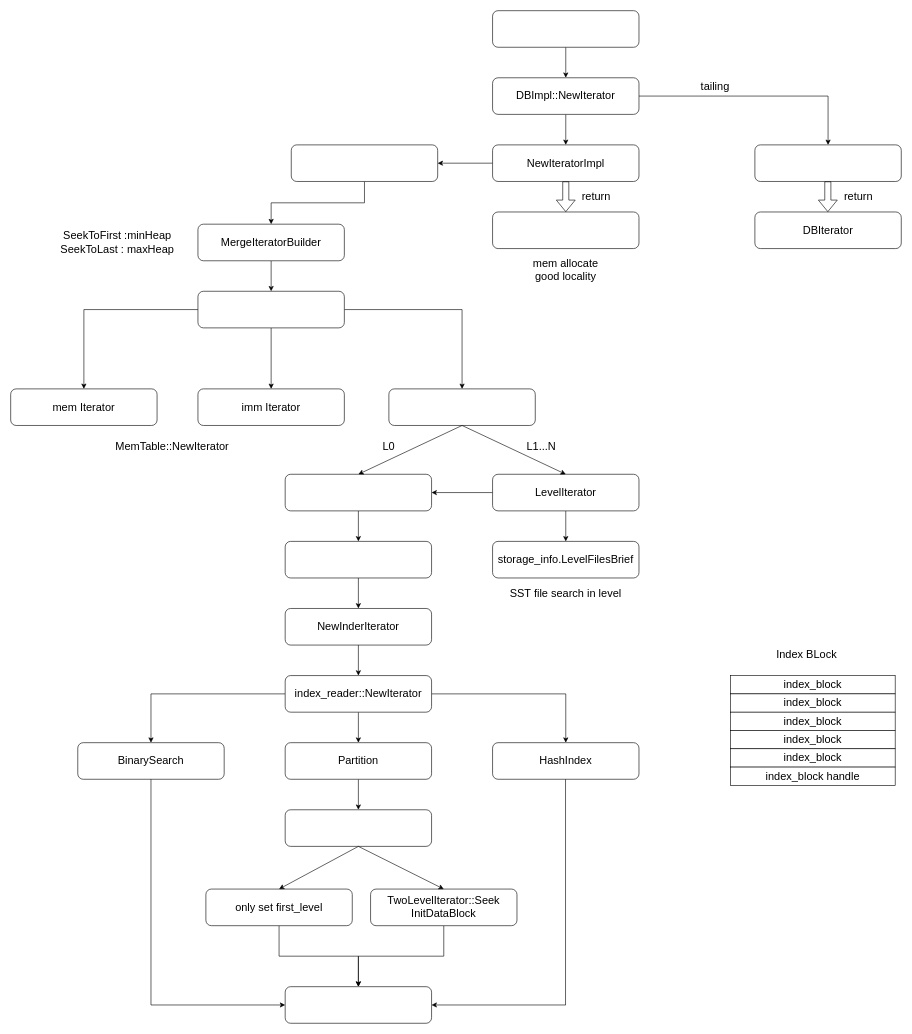
This 912x1034 diagram has some shape labels left out. The centre of each missing label's shape, as x and y in pixels:
"AddIteratorsForLevel" belongs at point (461, 406).
"Block::NewIterator IndexBlockIter" belongs at point (358, 1004).
"BlockBasedTable::NewIterator" belongs at point (358, 559).
"DB::NewIterator" belongs at point (565, 28).
"DBIterator + Arena (ArenaWrappedDBIter)" belongs at point (565, 230).
"MergeIterator" belongs at point (270, 309).
"NewDBIterator" belongs at point (827, 162).
"NewInternalIterator" belongs at point (364, 162).
"NewTwoLevelIterator" belongs at point (358, 827).
"TableCache::NewIterator" belongs at point (358, 492).
